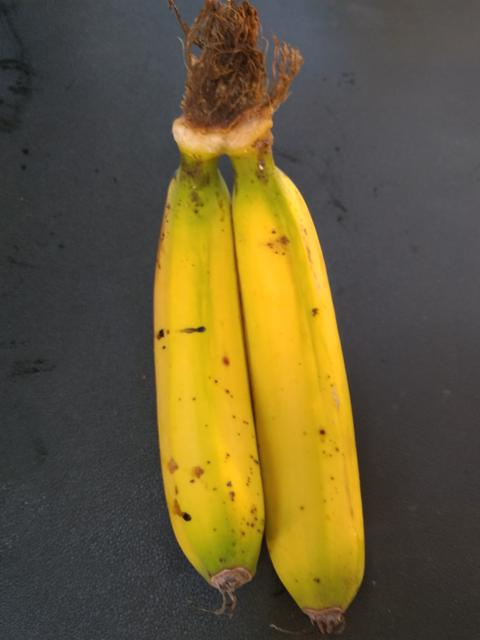freshripe: (217, 154, 402, 639)
ripe: (118, 165, 276, 618)
